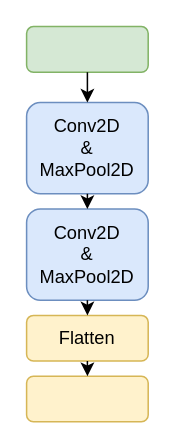
Some shapes in this 175 by 448 pixel diagram are drawn without their labels. The centre of each missing label's shape, as x and y in pixels:
Dense: (x=86, y=398)
Inputs: (x=86, y=48)
